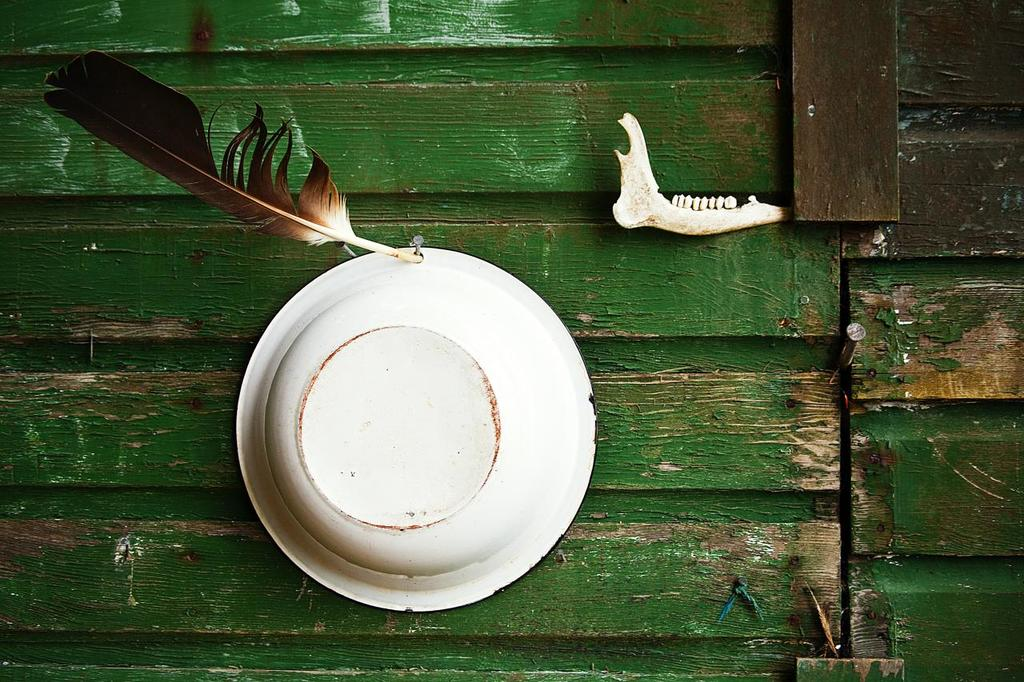plate: (235, 245, 598, 614)
